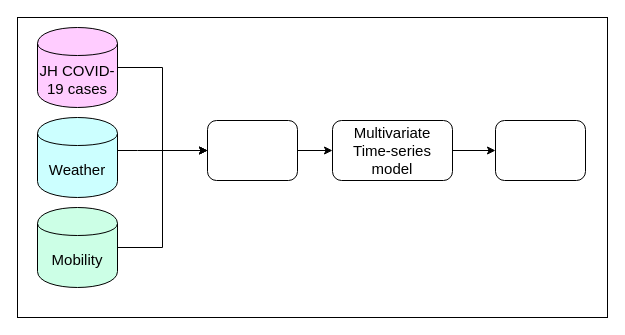
Some shapes in this 625 by 335 pixel diagram are drawn without their labels. The centre of each missing label's shape, as x and y in pixels:
"Evaluate results" goes at point (540, 150).
"Feature Selection" goes at point (252, 150).
